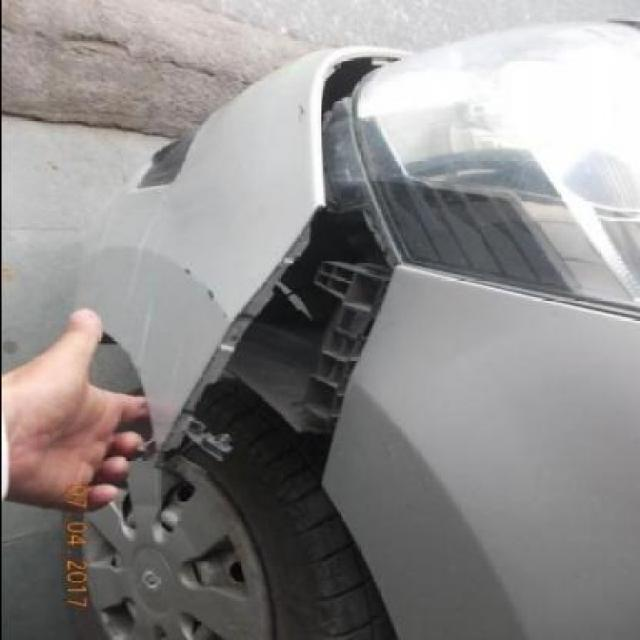damage: (155, 54, 396, 491), (117, 194, 172, 309), (86, 199, 124, 311), (172, 263, 231, 325), (132, 293, 164, 363), (162, 338, 188, 398), (291, 91, 305, 129)
